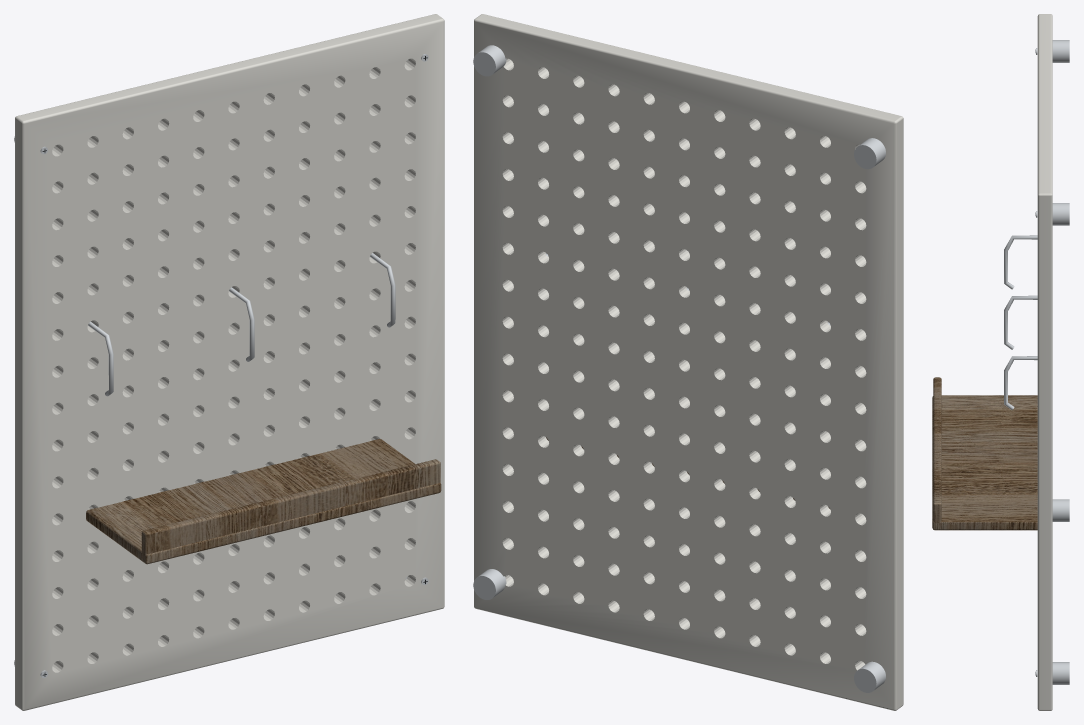
File: detail-pegboard.glb
The picture shows the model from 3 angles, left to right: view 1: azimuth 30°, elevation 25°; view 2: azimuth 150°, elevation 25°; view 3: azimuth 270°, elevation 25°; orthographic projection. The views are drawn at different scales.
Parts seen in each view (by area): view 1: 实体洞洞板, 置物托板, 托板前沿; view 2: 实体洞洞板, 离墙安装垫柱.003, 离墙安装垫柱.002, 离墙安装垫柱, 离墙安装垫柱.001; view 3: 置物托板, 实体洞洞板, 托板前沿, 离墙安装垫柱, 离墙安装垫柱.001, 离墙安装垫柱.002, 离墙安装垫柱.003, 可插拔挂钩, 可插拔挂钩.001, 可插拔挂钩.002.
Boxes of the visible parts, <box> form: 实体洞洞板: <box>15,14,444,710</box>; 置物托板: <box>86,439,441,564</box>; 托板前沿: <box>141,459,440,559</box>; 实体洞洞板: <box>474,14,903,710</box>; 离墙安装垫柱.003: <box>473,45,506,76</box>; 离墙安装垫柱.002: <box>473,569,506,599</box>; 离墙安装垫柱: <box>854,661,885,692</box>; 离墙安装垫柱.001: <box>854,138,885,169</box>; 置物托板: <box>932,395,1037,530</box>; 实体洞洞板: <box>1037,14,1052,710</box>; 托板前沿: <box>933,377,941,523</box>; 离墙安装垫柱: <box>1052,499,1069,521</box>; 离墙安装垫柱.001: <box>1052,40,1069,62</box>; 离墙安装垫柱.002: <box>1052,662,1069,684</box>; 离墙安装垫柱.003: <box>1052,203,1069,225</box>; 可插拔挂钩: <box>1004,235,1037,289</box>; 可插拔挂钩.001: <box>1004,295,1037,349</box>; 可插拔挂钩.002: <box>1004,356,1037,409</box>.
Bounding box in the file's own units: 0.6 × 0.8 × 0.192.
Materials: 4 (1 with a texture image).
